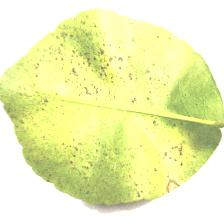canker: (54, 20, 185, 196)
